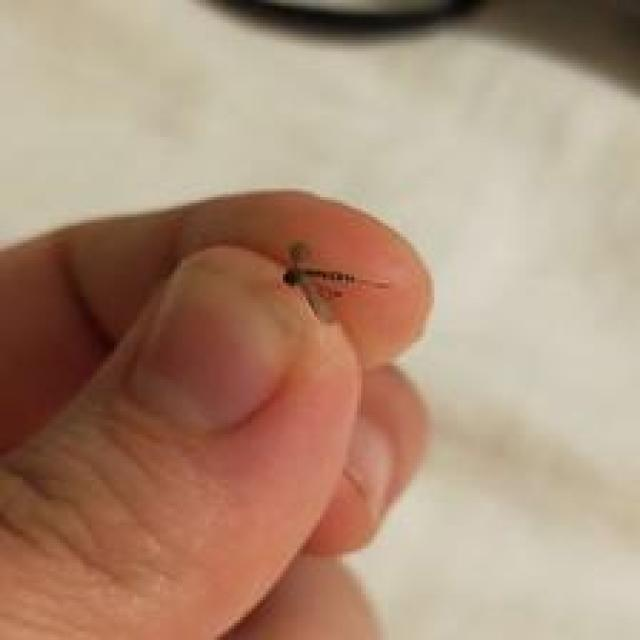Culex: (280, 240, 391, 320)
